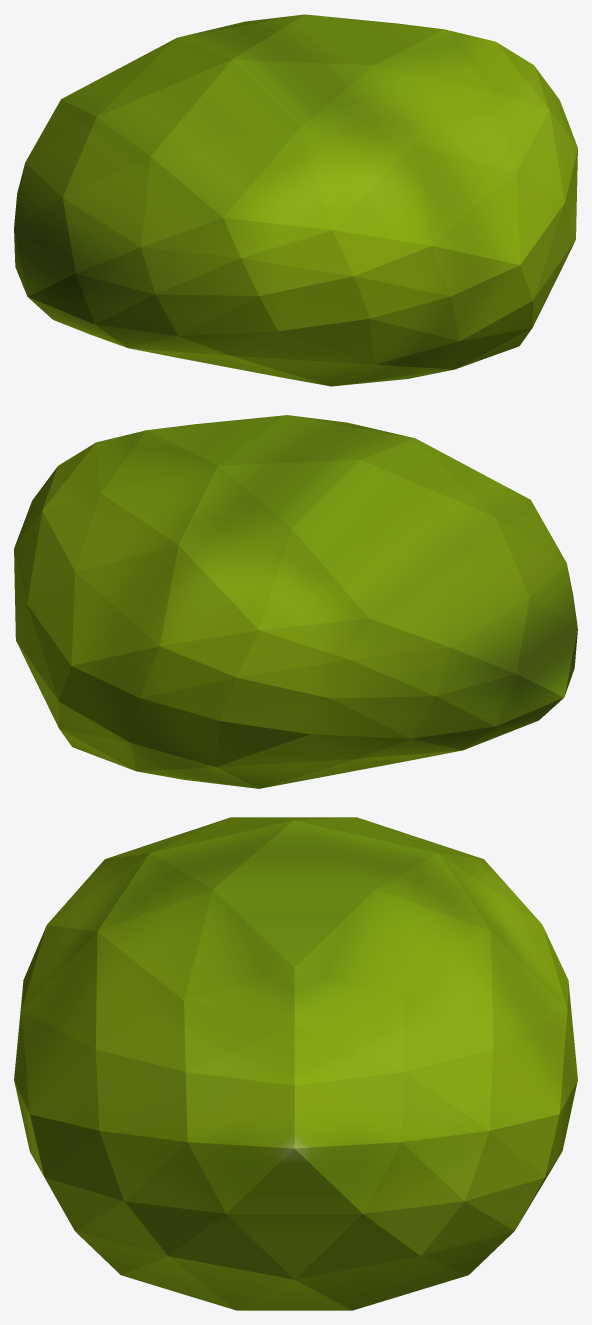
Rendered from bee1.obj.
The picture shows the model from 3 angles, top to bottom: view 1: azimuth 30°, elevation 25°; view 2: azimuth 150°, elevation 25°; view 3: azimuth 270°, elevation 25°; orthographic projection. The views are drawn at different scales.
Visible parts, largest first — view 1: ColobotMesh_1_ColobotMesh_; view 2: ColobotMesh_1_ColobotMesh_; view 3: ColobotMesh_1_ColobotMesh_.
Part boxes in pixels (x1=…): ColobotMesh_1_ColobotMesh_: x1=14, y1=14, x2=577, y2=386; ColobotMesh_1_ColobotMesh_: x1=14, y1=415, x2=577, y2=788; ColobotMesh_1_ColobotMesh_: x1=14, y1=817, x2=577, y2=1310.
Size of the model in its own units: 2.73 by 1.6 by 2.14.
